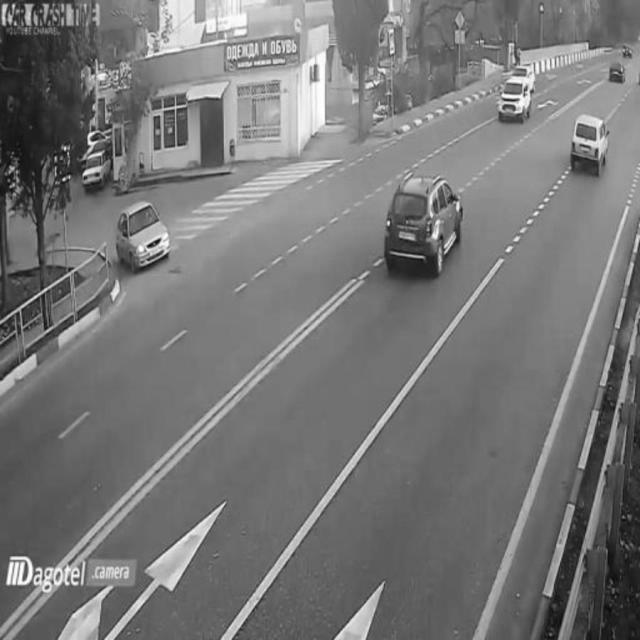vehicle: (380, 163, 466, 276), (114, 196, 174, 267), (568, 107, 612, 177), (496, 72, 534, 127), (81, 152, 111, 189), (607, 56, 625, 86)
